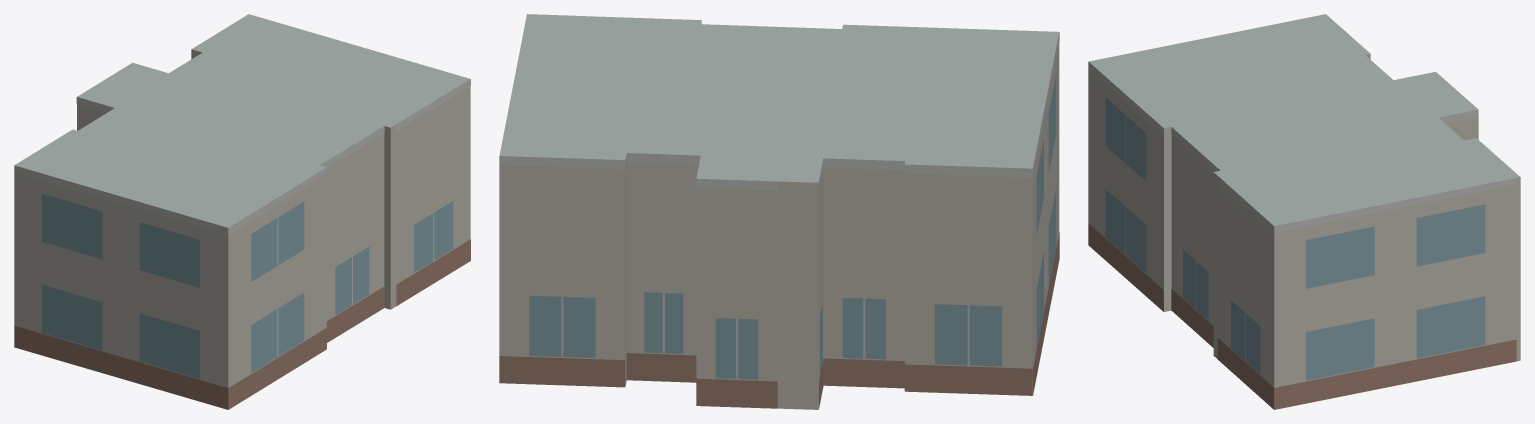
The model's file is survey-upis-32538410.glb.
3 views of the same model, side by side, from view 1: azimuth 30°, elevation 25°; view 2: azimuth 150°, elevation 25°; view 3: azimuth 270°, elevation 25° (orthographic). The views are drawn at different scales.
Visible parts, largest first — view 1: survey-upis-32538410.tmp; view 2: survey-upis-32538410.tmp; view 3: survey-upis-32538410.tmp.
Boxes of the visible parts, bbox=[...] form: survey-upis-32538410.tmp: bbox=[14, 14, 470, 409]; survey-upis-32538410.tmp: bbox=[499, 14, 1059, 409]; survey-upis-32538410.tmp: bbox=[1088, 14, 1520, 409].
Size of the model in its own units: 15.12 by 6.1 by 13.01.
